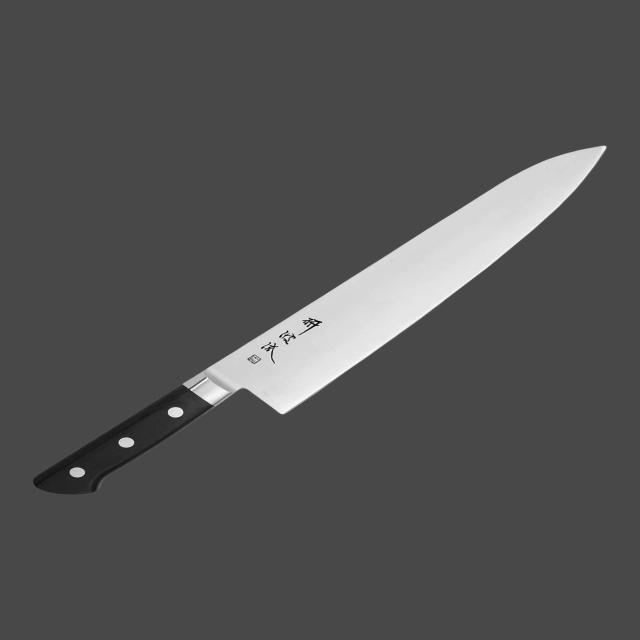Knife: (0, 132, 615, 555)
